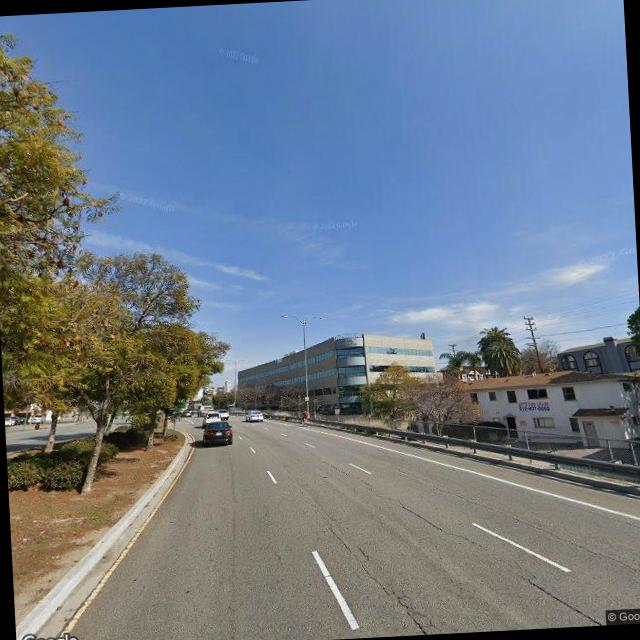pothole: (308, 499, 448, 638), (394, 496, 486, 554), (526, 570, 608, 628)
